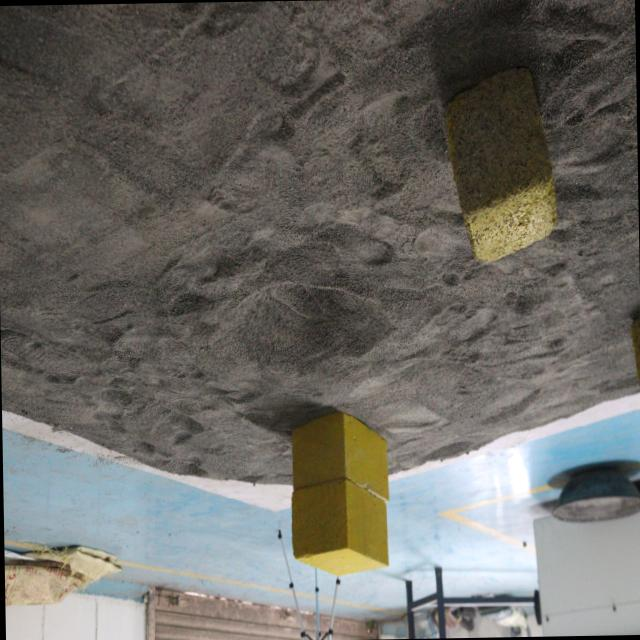box: (447, 63, 557, 274), (288, 412, 392, 576)
crater: (202, 270, 403, 386)
